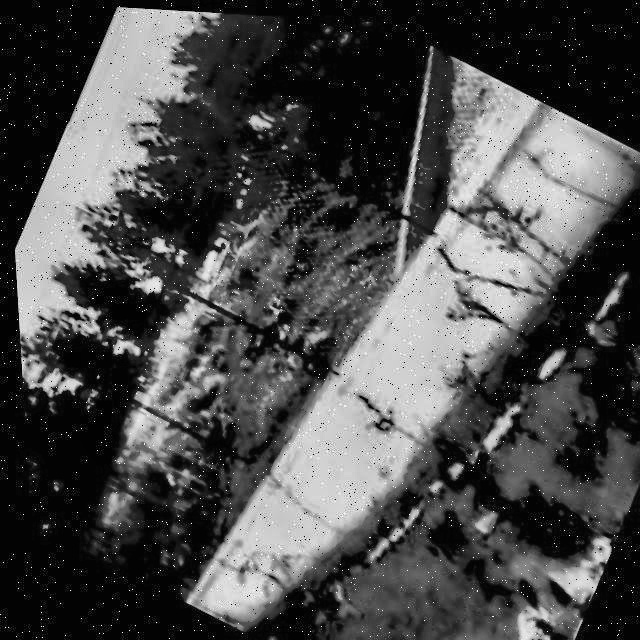Fire: (473, 539, 592, 640)
